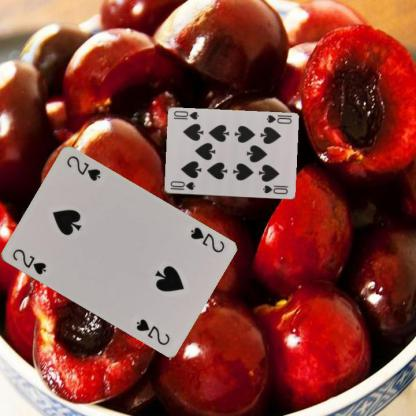10s: (167, 179, 196, 191), (263, 113, 292, 125)
2s: (187, 224, 226, 254), (10, 246, 48, 276)
